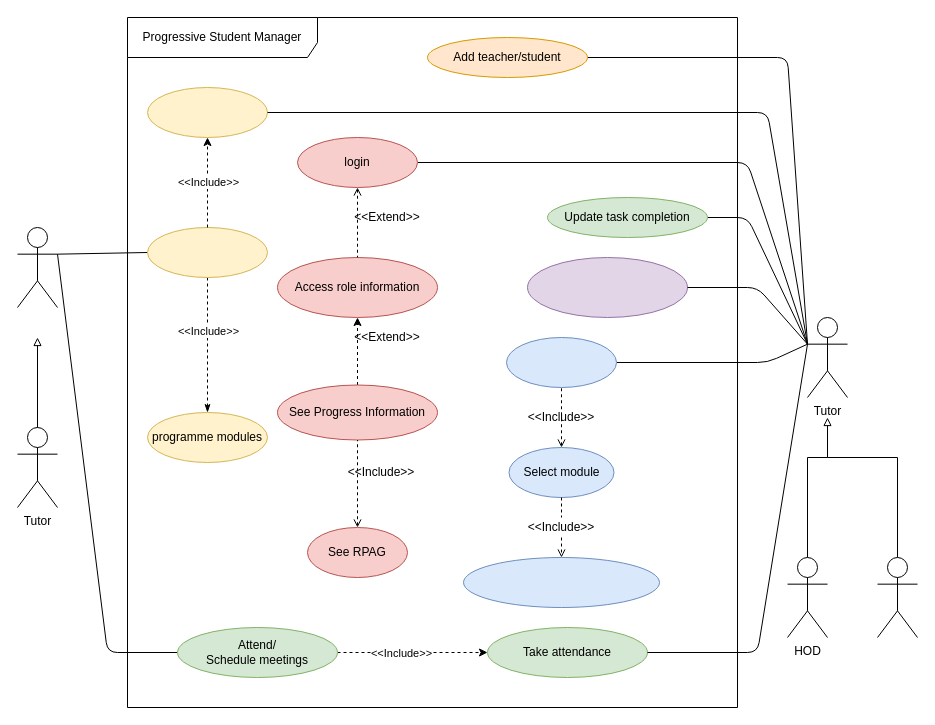
Some shapes in this 935 by 725 pixel diagram are drawn without their labels. Each missing label, with the centre of its shape:
Admin: (x=37, y=267)
Assign Batch/Session/Start: (x=207, y=112)
Notify Student / Teacher if they are falling behind: (x=607, y=287)
Register programme: (x=207, y=252)
Select pathway students for module: (x=561, y=582)
Select term teaching class: (x=561, y=362)
SET: (x=897, y=597)
